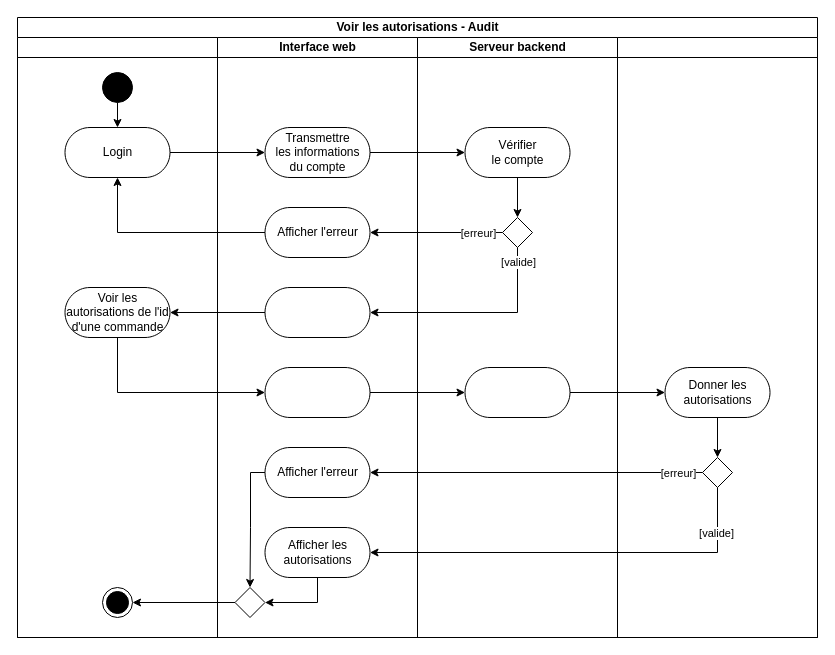
Some shapes in this 835 by 655 pixel diagram are drawn without their labels. Each missing label, with the box of its shape:
Afficher la page du compte: (264, 286, 370, 338)
Audit: (16, 36, 218, 638)
Contrat intelligent: (616, 36, 818, 638)
Demander les informations: (464, 366, 570, 418)
Envoyer la requête: (264, 366, 370, 418)
